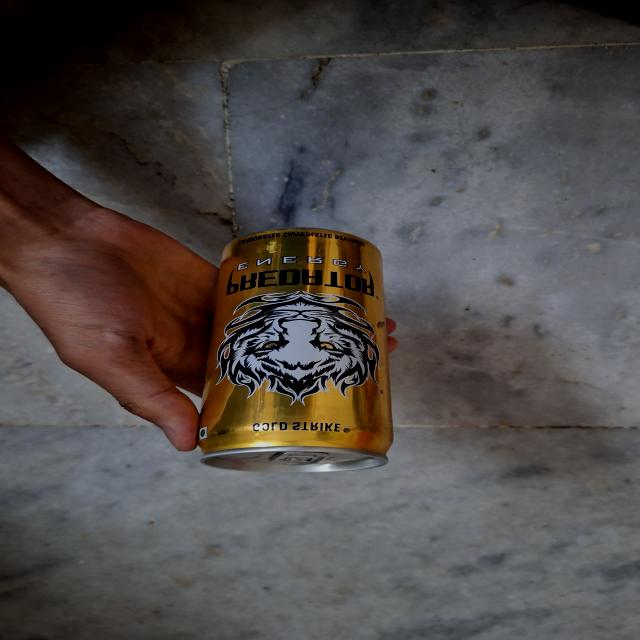Predator: (180, 228, 396, 466)
